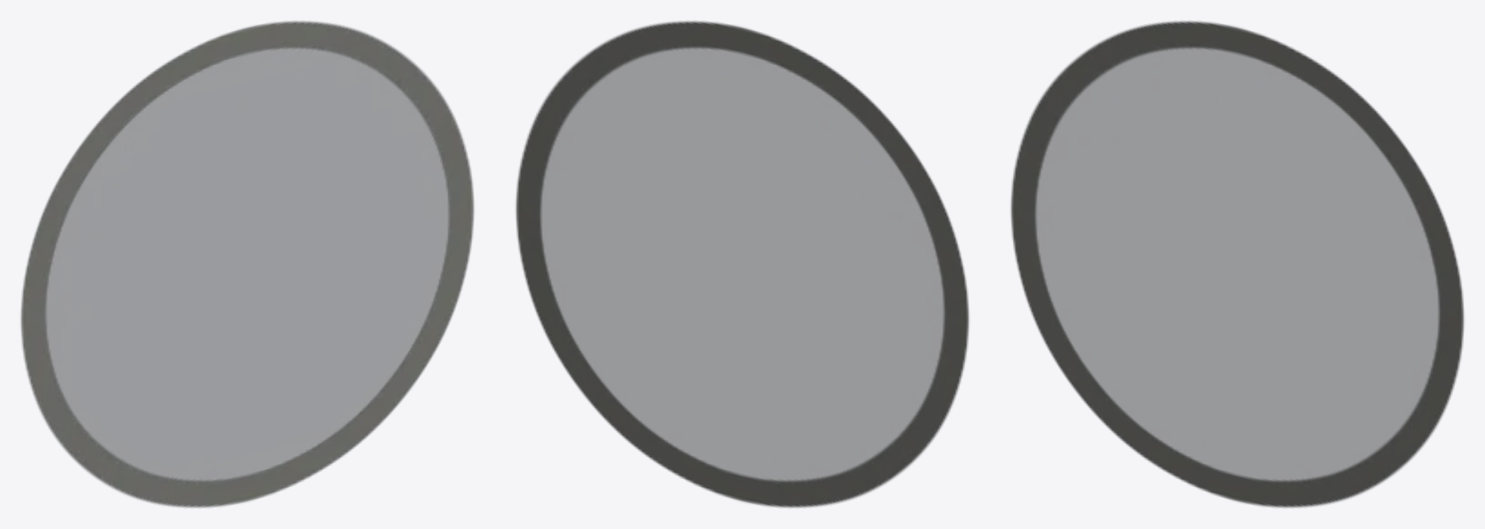
The model's file is s2_waypoint_node.glb.
3 views of the same model, side by side, from view 1: azimuth 30°, elevation 25°; view 2: azimuth 150°, elevation 25°; view 3: azimuth 330°, elevation 25° (orthographic).
Parts seen in each view (by area): view 1: waypoint; view 2: waypoint; view 3: waypoint.
Boxes of the visible parts, x1,y1,x2,y2 form: waypoint: (21,21,473,507); waypoint: (516,21,968,507); waypoint: (1011,21,1463,507).
Bounding box in the file's own units: 0.4 × 0.4 × 0.
1 material, 1 textured.
